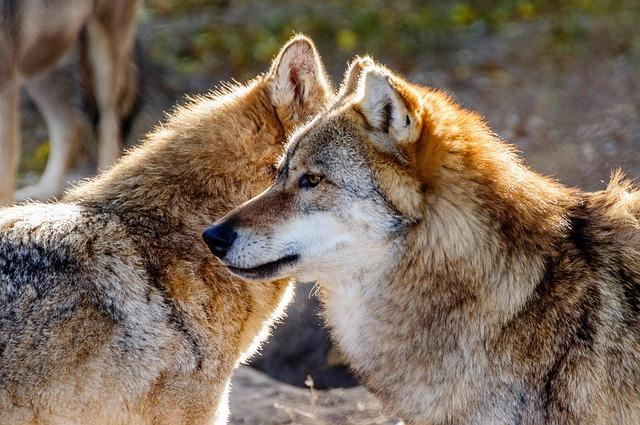Non_Gorille: (2, 23, 639, 425)
